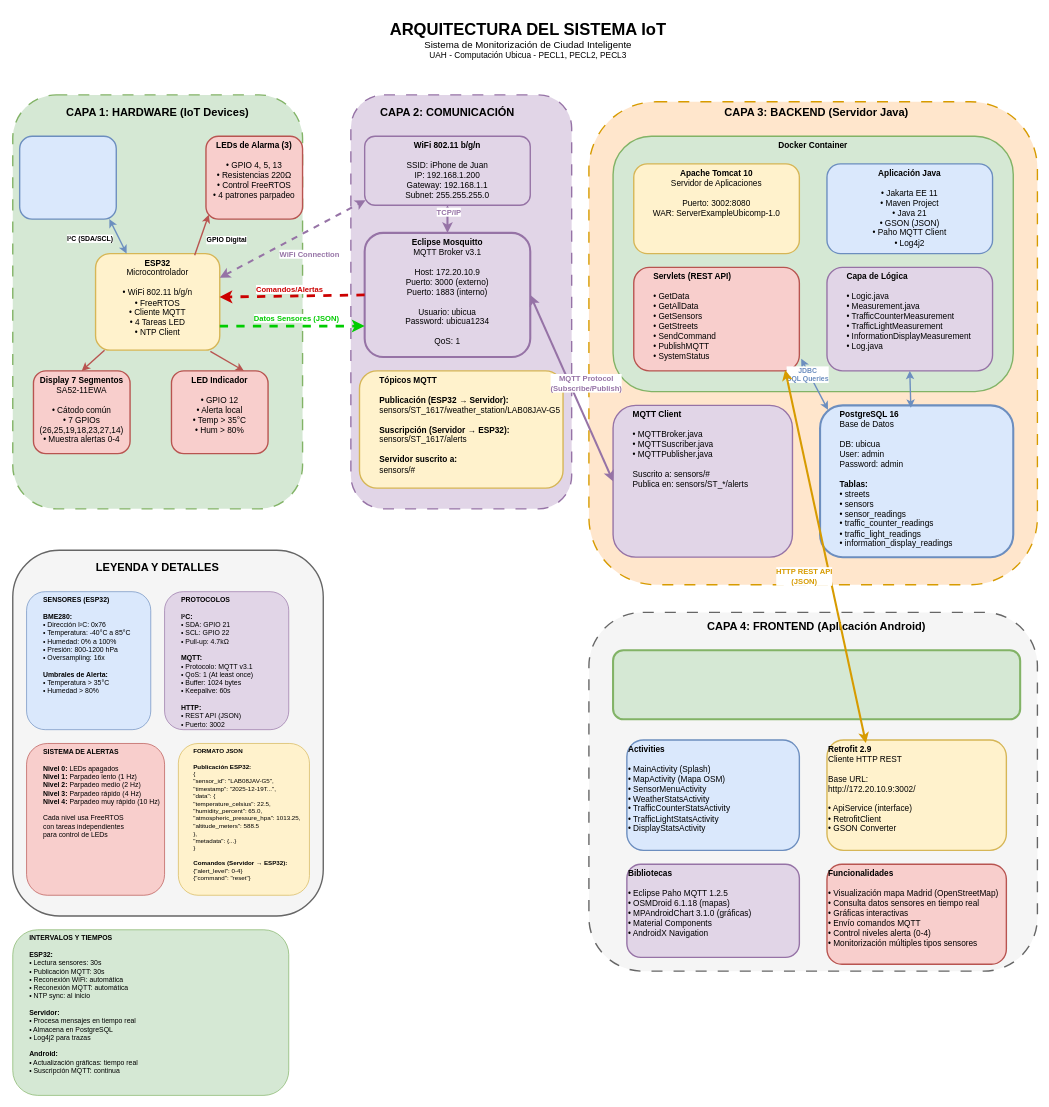
This 1049x1107 diagram has some shape labels left out. The centre of each missing label's shape, as x and y in pixels:
"Aplicación Android • Java 11 • Android SDK 24-36 • Gradle 8.13 • Material Design" goes at (816,684).
"BME280 Sensor I²C (0x76) • Temperatura • Humedad • Presión • Altitud" goes at (68,177).
